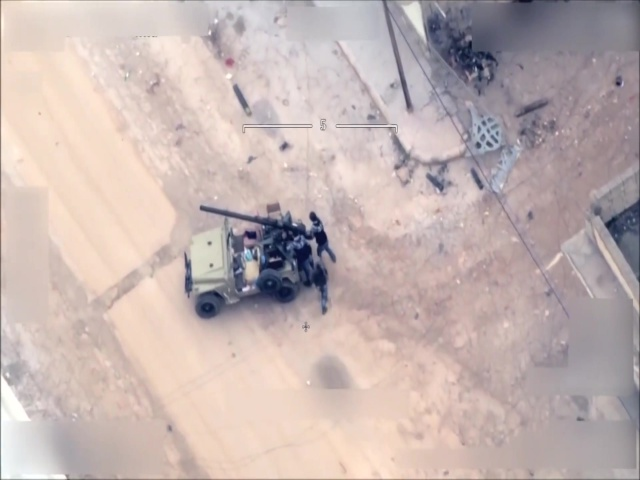person: (303, 203, 338, 269), (307, 251, 332, 317)
vehicle: (182, 212, 307, 318)
